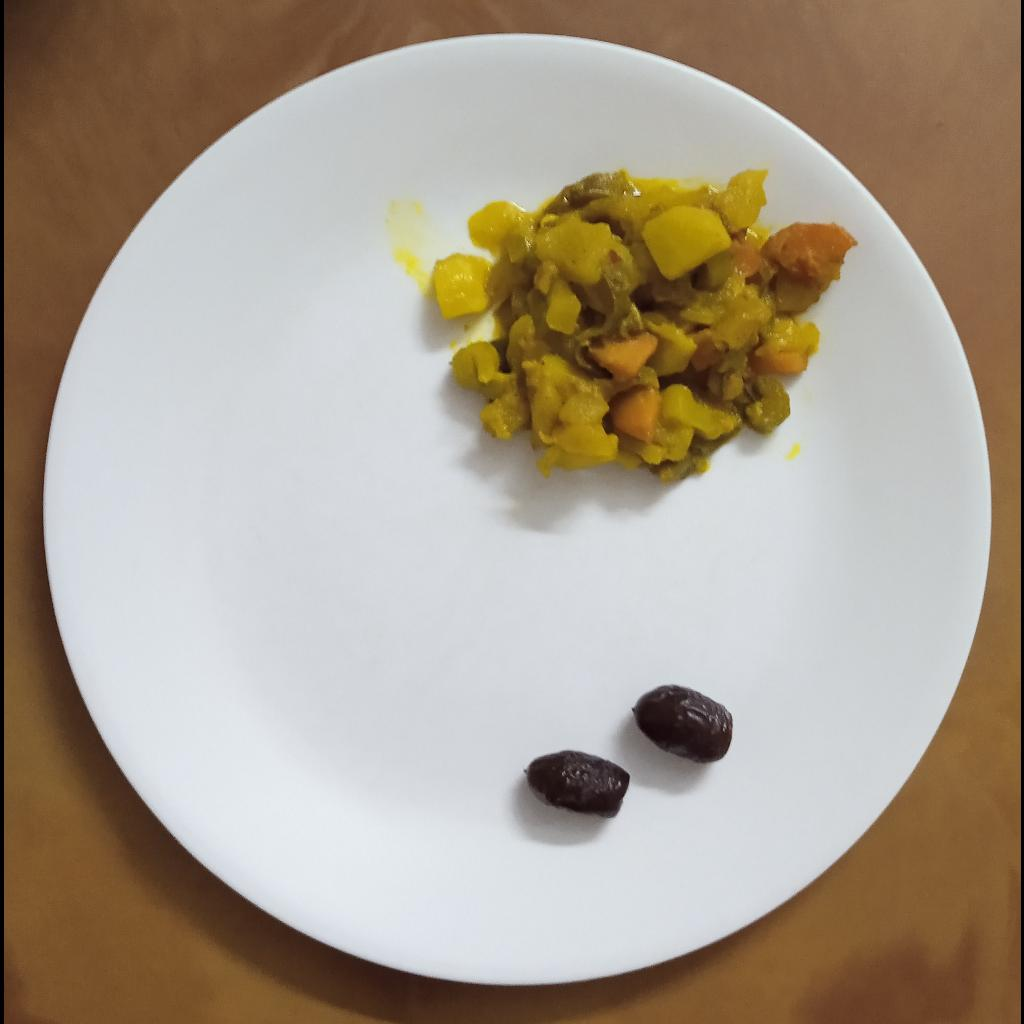dates: (632, 684, 733, 763), (524, 749, 630, 821)
vegetable: (433, 168, 859, 479)
